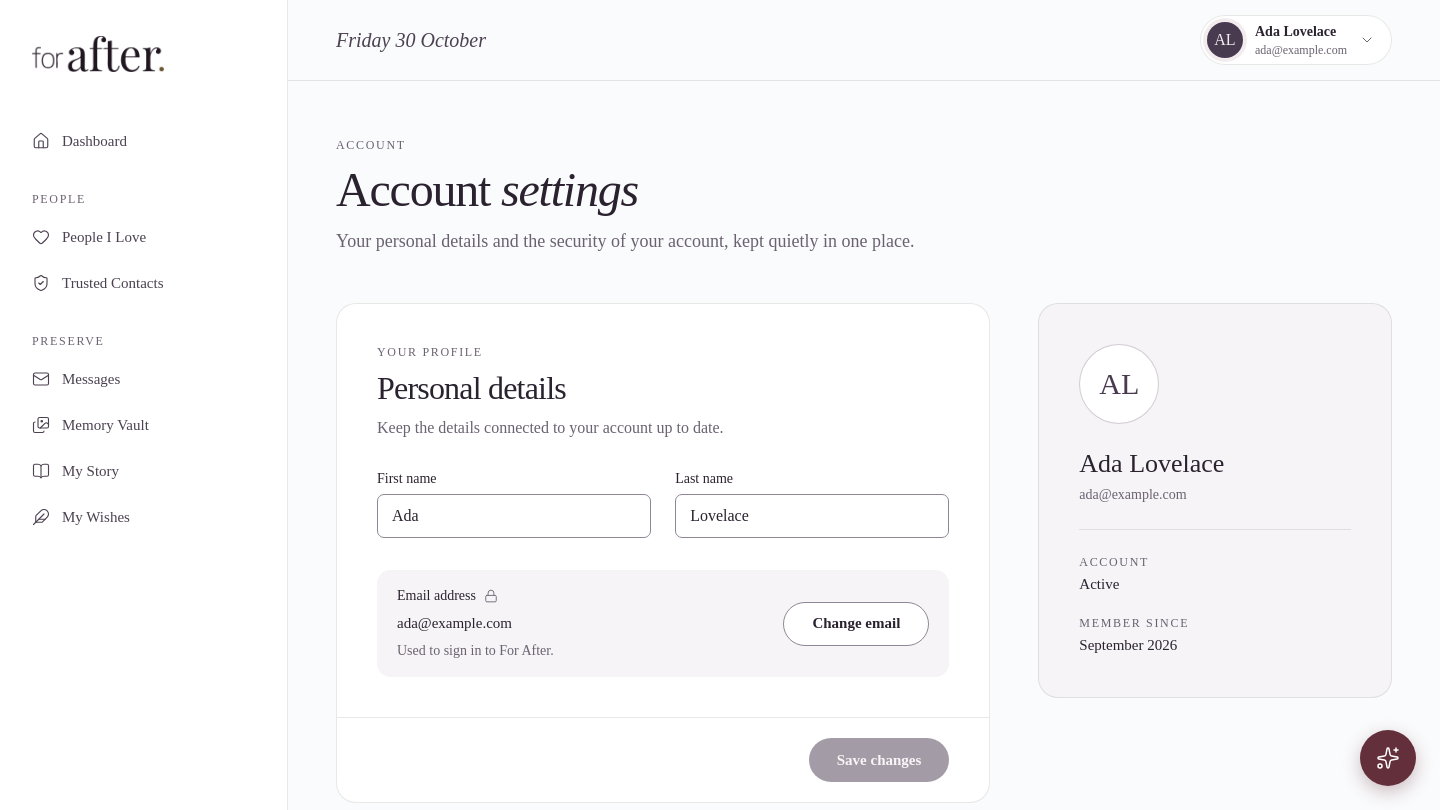
Test: Account settings: profile › saves only the name, once, and updates the header and account menu
Expected: the element "Personal details" is shown, [336, 303, 990, 803]
Replace the text in the field labelled "First name" with " Augusta " at (514, 516), box [377, 494, 651, 538]
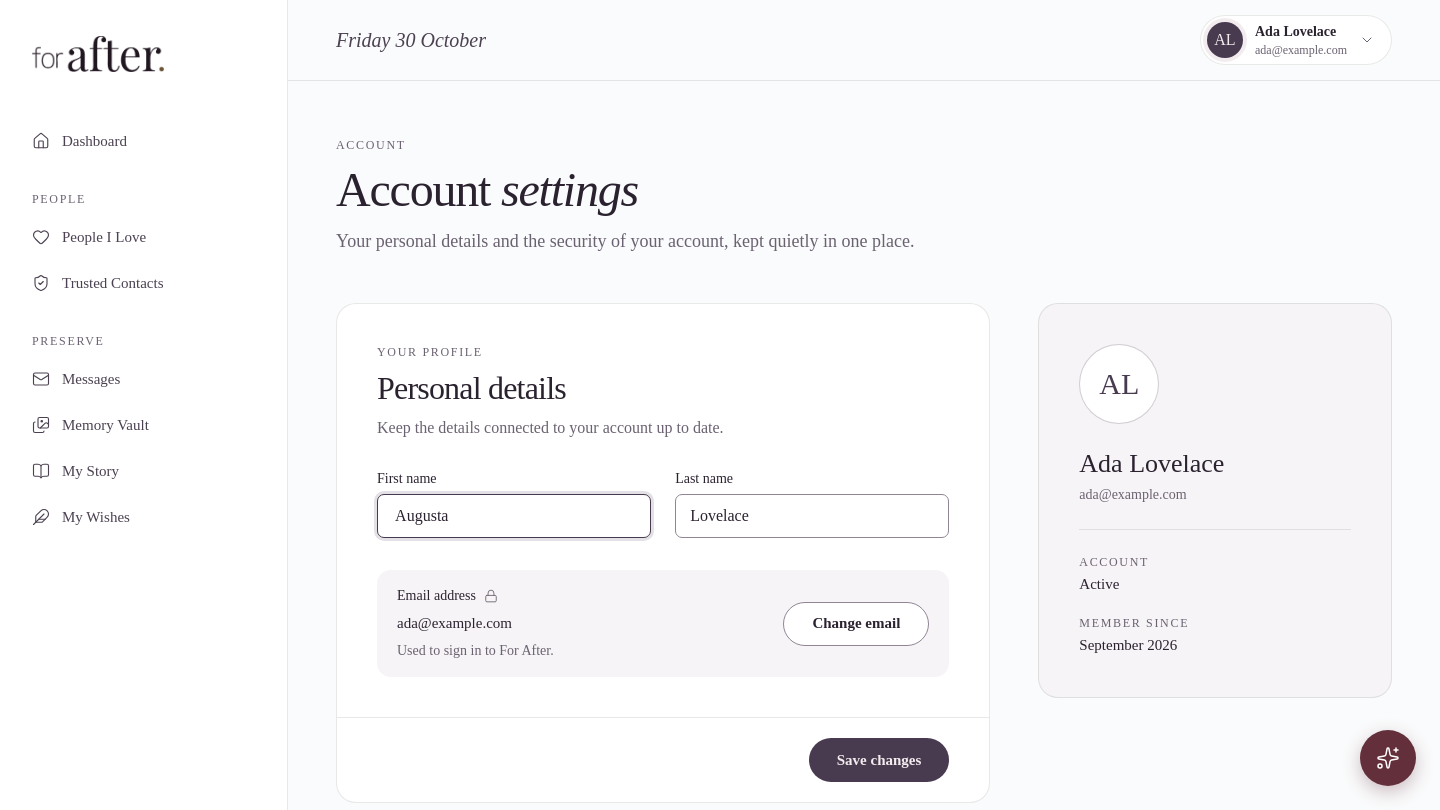
Replace the text in the field labelled "Last name" with "King" at (812, 516), box [675, 494, 949, 538]
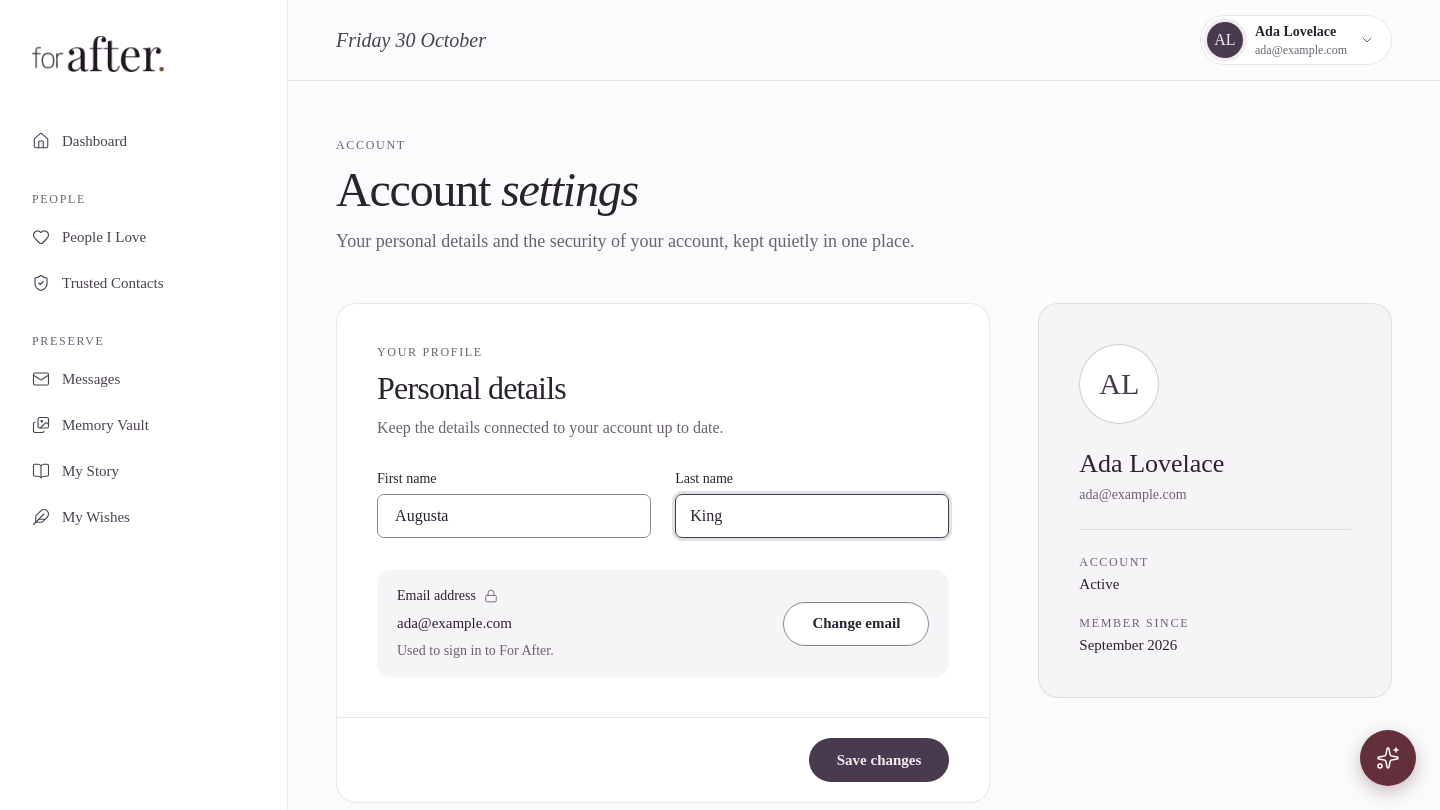
Expected: the button "Save changes" is enabled
Click the button "Save changes" at (879, 760), box [809, 738, 949, 782]
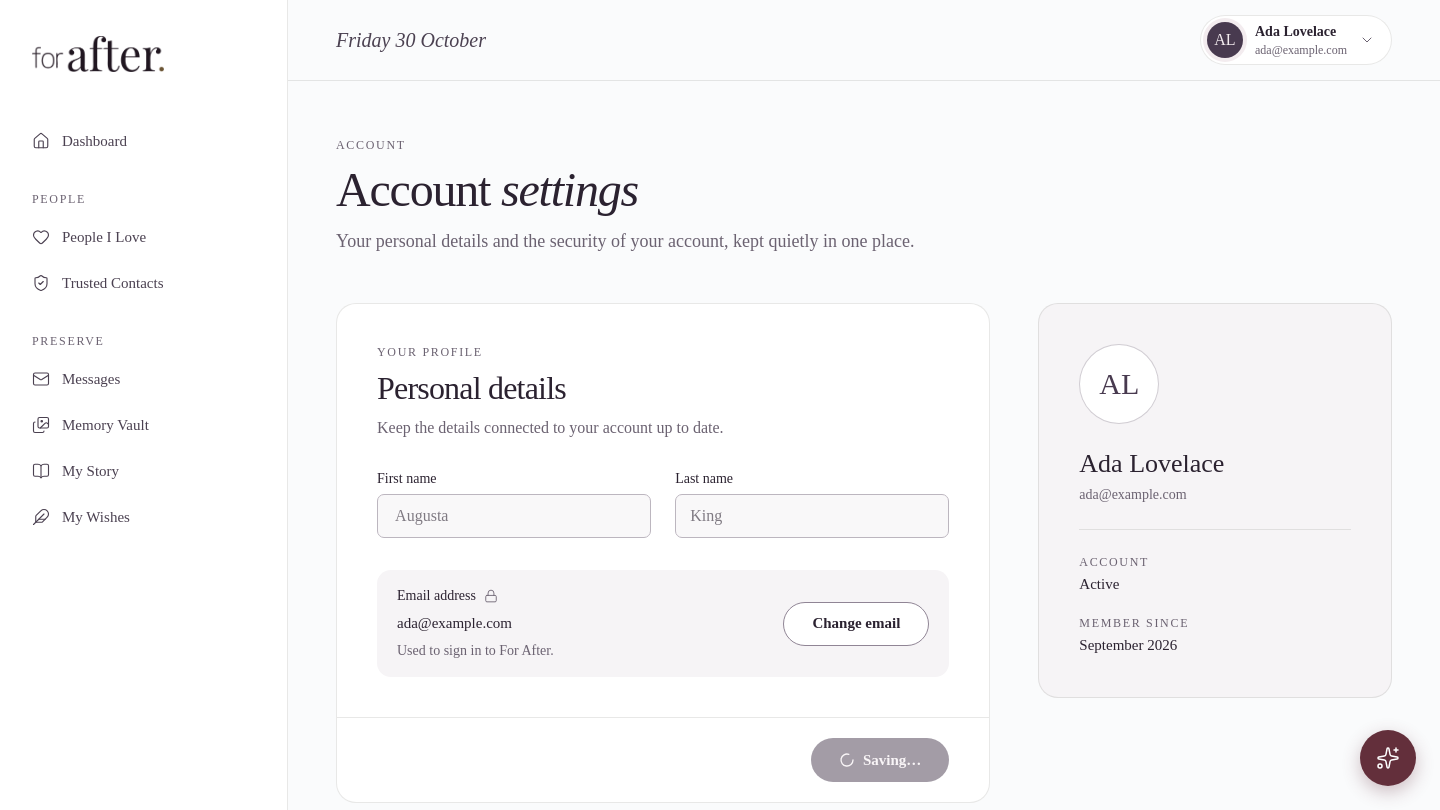
Expected: the button "Saving…" is disabled
Click the button "Saving…" at (880, 760), box [811, 738, 949, 782]
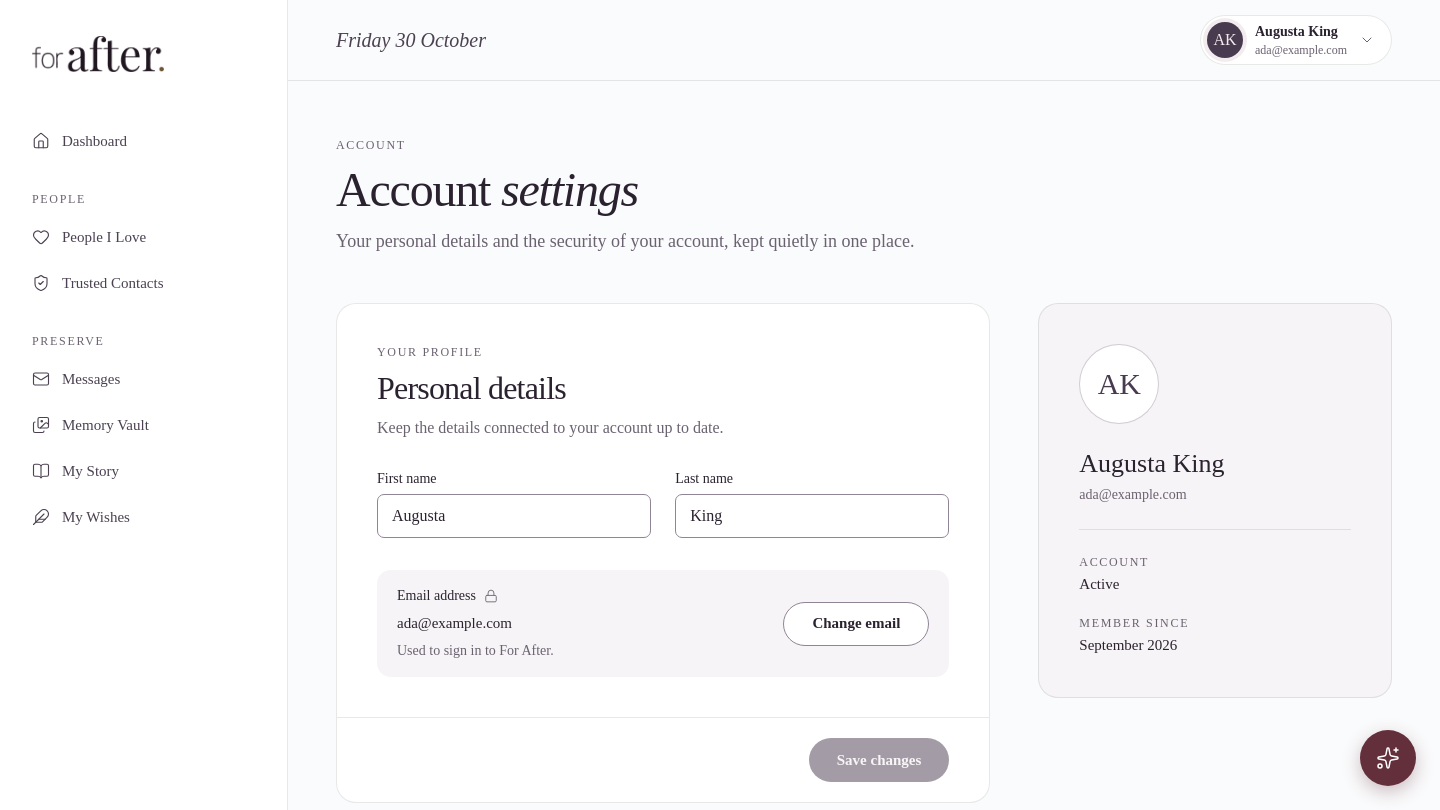
Expected: the button with aria-label "Account: Augusta King" is shown, [1200, 15, 1392, 65]
Expected: the text "Augusta King" in the row of "Last name" is shown, [1079, 449, 1224, 478]
Expected: the text "AK" in the row of "Your profile" is shown, [1098, 367, 1141, 400]
